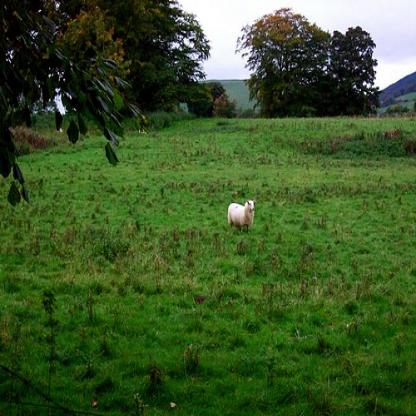sheep: (227, 198, 255, 230)
